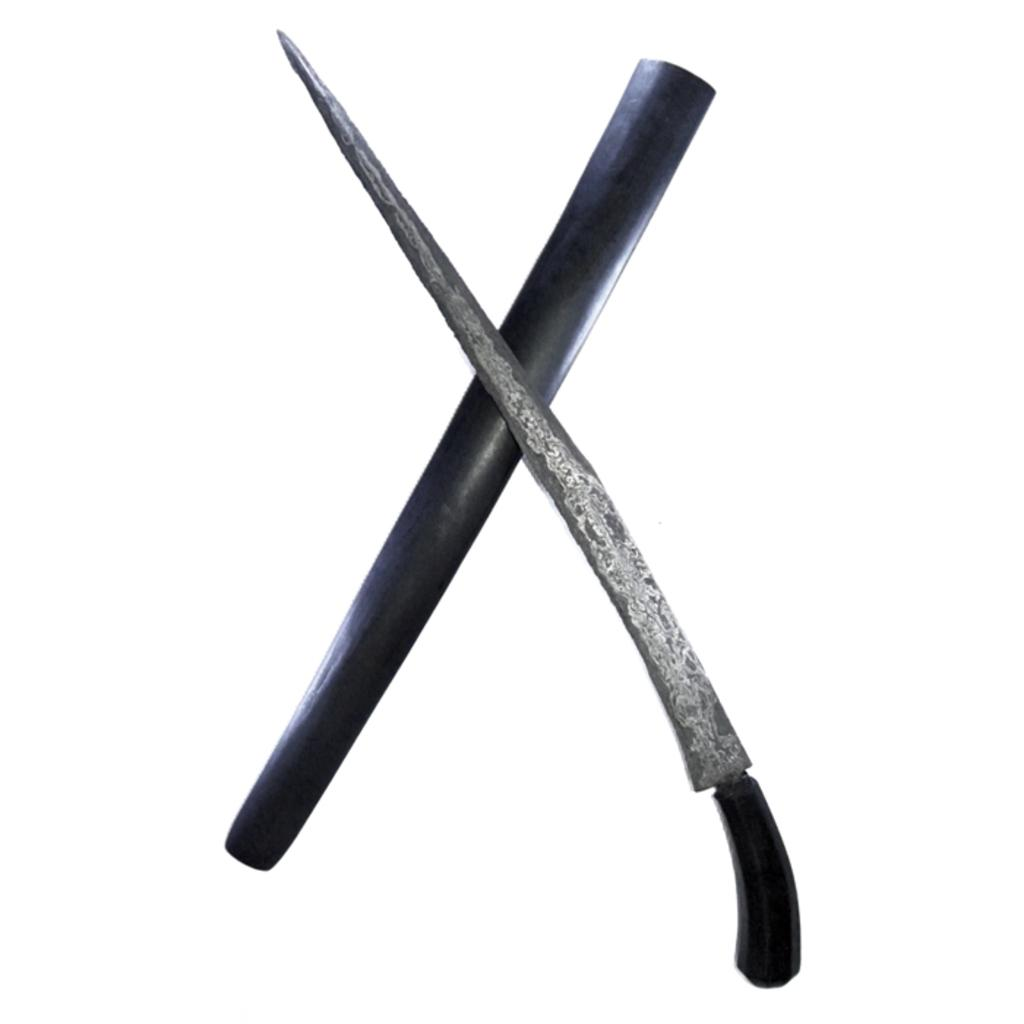Sword: (274, 25, 800, 989)
